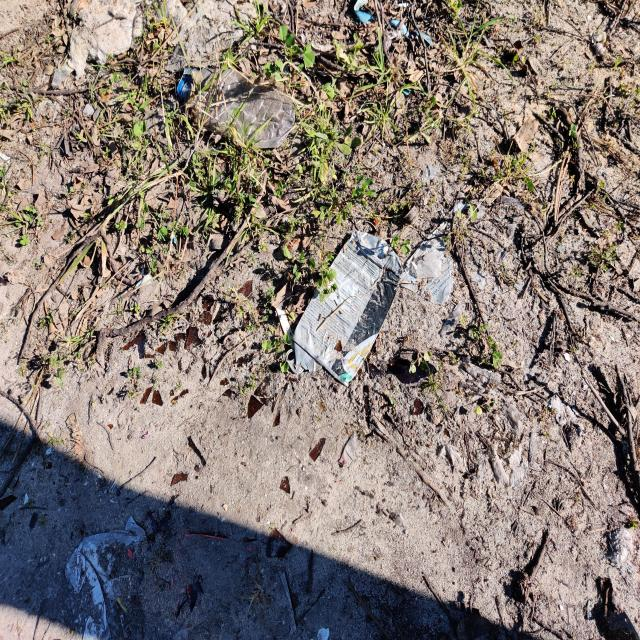litter: (121, 271, 299, 429), (285, 229, 403, 387), (63, 517, 149, 639), (174, 67, 295, 149), (52, 1, 143, 89), (398, 221, 456, 306), (134, 273, 155, 294), (175, 75, 191, 99)
